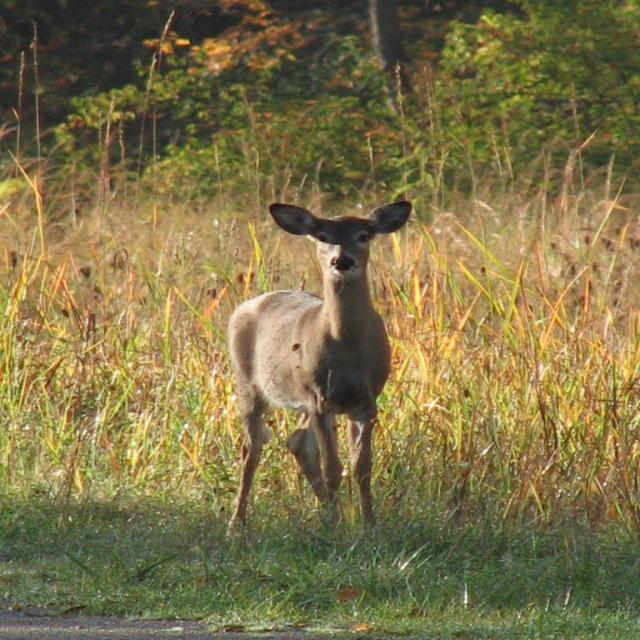Deer: (227, 198, 410, 544)
